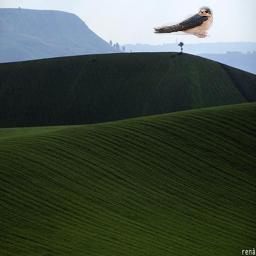Swallow: (153, 6, 213, 38)
